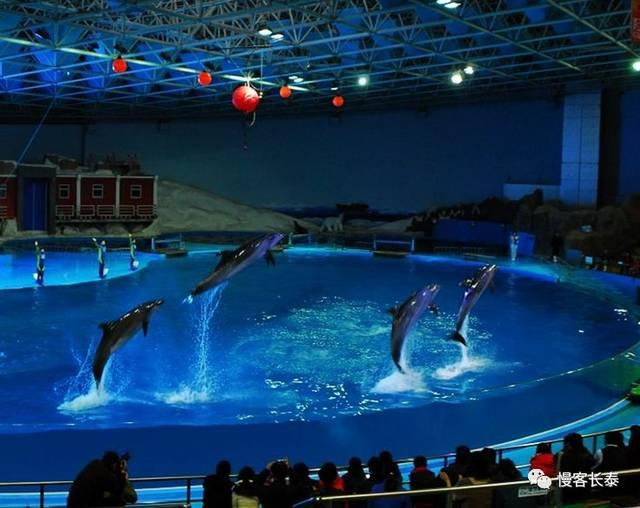fish: (184, 232, 288, 308), (87, 299, 167, 395), (383, 282, 450, 375), (443, 262, 507, 346)
